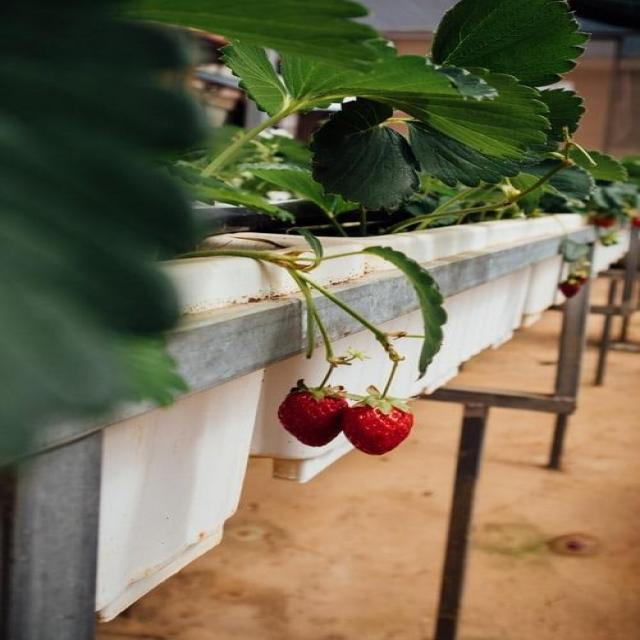mature: (276, 389, 346, 447), (342, 404, 414, 456)
